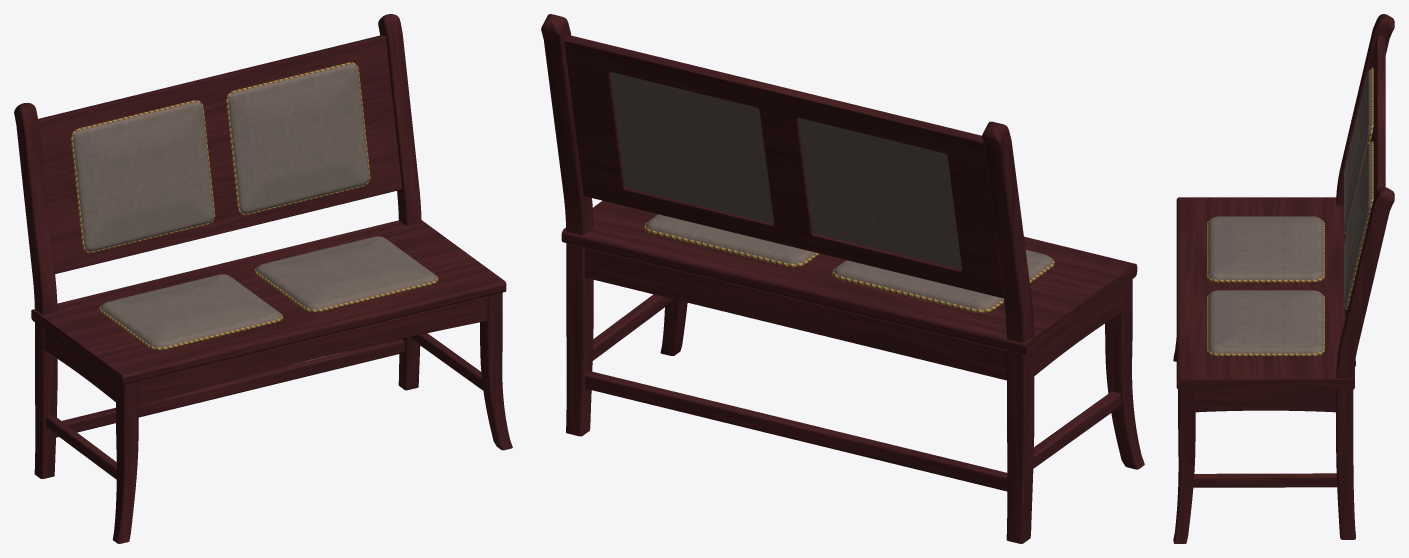
File: Skameyka_lite.fbx
The picture shows the model from 3 angles, left to right: view 1: azimuth 30°, elevation 25°; view 2: azimuth 150°, elevation 25°; view 3: azimuth 270°, elevation 25°; orthographic projection. The views are drawn at different scales.
Parts seen in each view (by area): view 1: Orindiq_taxtasi, Suyanchiq_ramasi, Suyanchiq_yostigi_ong, Suyanchiq_yostigi_chap, Old_tsarga, Orindiq_yostigi_ong, Orindiq_yostigi_chap, Orqa_oyoq_va_suyanchiq_ustuni_chap, Orqa_oyoq_va_suyanchiq_ustuni_ong, Orqa_tirgak, Old_oyoq_chap, Old_oyoq_ong (+7 smaller); view 2: Suyanchiq_ramasi, Orindiq_taxtasi, Suyanchiq_orqa_matosi_chap, Suyanchiq_orqa_matosi_ong, Orqa_tsarga, Orqa_oyoq_va_suyanchiq_ustuni_chap, Orqa_oyoq_va_suyanchiq_ustuni_ong, Orqa_tirgak, Old_oyoq_chap, Orindiq_yostigi_chap, Orindiq_yostigi_ong, Yon_tsarga_chap (+5 smaller); view 3: Orindiq_taxtasi, Orindiq_yostigi_chap, Orindiq_yostigi_ong, Orqa_oyoq_va_suyanchiq_ustuni_ong, Yon_tsarga_ong, Old_oyoq_ong, Yon_tirgak_ong, Suyanchiq_ramasi, Suyanchiq_yostigi_chap, Suyanchiq_yostigi_ong, Orqa_oyoq_va_suyanchiq_ustuni_chap, Orindiq_shnuri_ong (+3 smaller).
Boxes of the visible parts, x1,y1,x2,y2 form: Orindiq_taxtasi: [31, 220, 506, 385]; Suyanchiq_ramasi: [38, 35, 402, 273]; Suyanchiq_yostigi_ong: [228, 64, 369, 213]; Suyanchiq_yostigi_chap: [73, 102, 214, 251]; Old_tsarga: [138, 296, 487, 405]; Orindiq_yostigi_ong: [256, 236, 436, 312]; Orindiq_yostigi_chap: [101, 274, 281, 347]; Orqa_oyoq_va_suyanchiq_ustuni_chap: [14, 102, 57, 478]; Orqa_oyoq_va_suyanchiq_ustuni_ong: [378, 14, 421, 390]; Orqa_tirgak: [56, 339, 404, 437]; Old_oyoq_chap: [112, 381, 138, 543]; Old_oyoq_ong: [480, 292, 512, 450]; Suyanchiq_ramasi: [564, 35, 1003, 298]; Orindiq_taxtasi: [561, 200, 1137, 355]; Suyanchiq_orqa_matosi_chap: [798, 118, 961, 269]; Suyanchiq_orqa_matosi_ong: [610, 72, 773, 223]; Orqa_tsarga: [584, 248, 1006, 380]; Orqa_oyoq_va_suyanchiq_ustuni_chap: [981, 121, 1034, 543]; Orqa_oyoq_va_suyanchiq_ustuni_ong: [541, 14, 593, 436]; Orqa_tirgak: [585, 371, 1007, 491]; Old_oyoq_chap: [1105, 279, 1144, 469]; Orindiq_yostigi_chap: [834, 250, 1052, 309]; Orindiq_yostigi_ong: [646, 214, 815, 267]; Yon_tsarga_chap: [1034, 287, 1121, 375]; Orindiq_taxtasi: [1176, 197, 1354, 389]; Orindiq_yostigi_chap: [1208, 216, 1323, 279]; Orindiq_yostigi_ong: [1208, 290, 1323, 353]; Orqa_oyoq_va_suyanchiq_ustuni_ong: [1336, 187, 1394, 539]; Yon_tsarga_ong: [1195, 390, 1336, 412]; Old_oyoq_ong: [1173, 389, 1195, 543]; Yon_tirgak_ong: [1193, 473, 1337, 487]; Suyanchiq_ramasi: [1345, 36, 1385, 318]; Suyanchiq_yostigi_chap: [1344, 69, 1372, 233]; Suyanchiq_yostigi_ong: [1344, 143, 1370, 307]; Orqa_oyoq_va_suyanchiq_ustuni_chap: [1336, 14, 1394, 366]; Orindiq_shnuri_ong: [1206, 294, 1324, 356].
Size of the model in its own units: 1.15 by 0.9887 by 0.5702.
3 materials, 3 textured.
